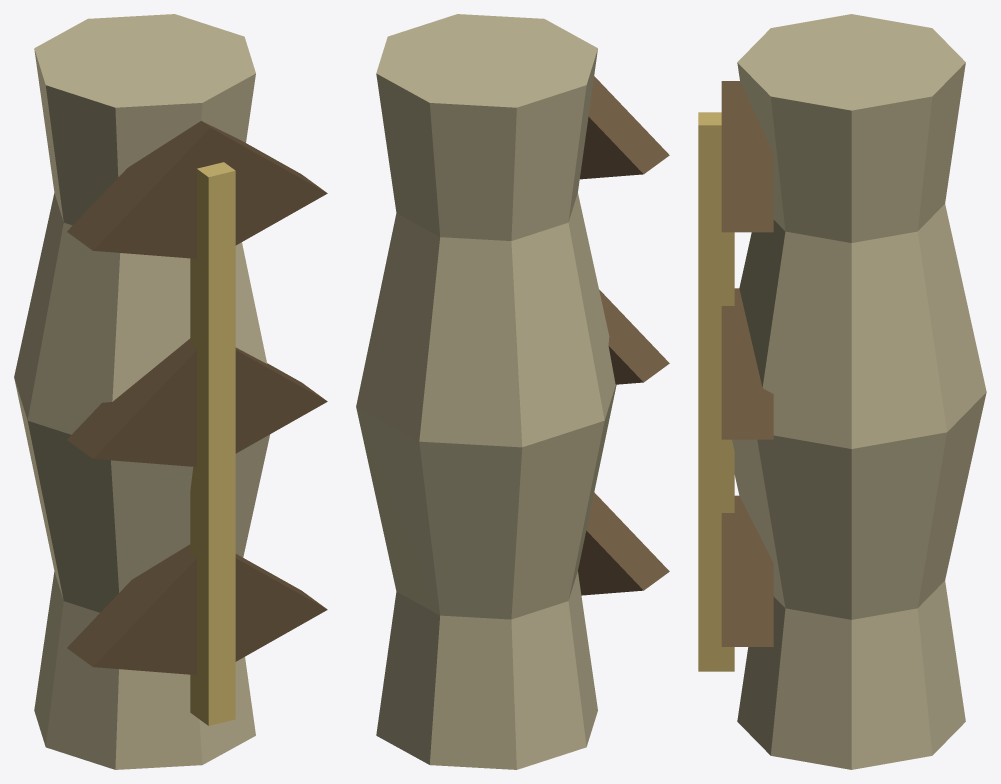
Rendered from bone_ridges.obj.
3 views of the same model, side by side, from view 1: azimuth 30°, elevation 25°; view 2: azimuth 150°, elevation 25°; view 3: azimuth 270°, elevation 25° (orthographic).
Visible parts, largest first — view 1: bone_handle, bone_edge, bone_ridge_-0.08, bone_ridge_-0.3, bone_ridge_-0.52, bone_edge_edge, bone_ridge_-0.08_edge, bone_ridge_-0.52_edge, bone_ridge_-0.3_edge; view 2: bone_handle, bone_ridge_-0.52_edge, bone_ridge_-0.08_edge, bone_ridge_-0.3_edge, bone_ridge_-0.52, bone_ridge_-0.08, bone_ridge_-0.3; view 3: bone_handle, bone_edge_edge, bone_ridge_-0.08_edge, bone_ridge_-0.52_edge, bone_ridge_-0.3_edge.
Part boxes in pixels (<box>): bone_handle: <box>14,14,269,769</box>; bone_edge: <box>208,170,235,725</box>; bone_ridge_-0.08: <box>93,127,327,258</box>; bone_ridge_-0.3: <box>93,350,327,466</box>; bone_ridge_-0.52: <box>93,558,327,675</box>; bone_edge_edge: <box>190,162,234,725</box>; bone_ridge_-0.08_edge: <box>67,121,326,250</box>; bone_ridge_-0.52_edge: <box>67,544,326,666</box>; bone_ridge_-0.3_edge: <box>67,338,326,458</box>; bone_handle: <box>356,14,616,769</box>; bone_ridge_-0.52_edge: <box>586,492,669,590</box>; bone_ridge_-0.08_edge: <box>588,76,669,173</box>; bone_ridge_-0.3_edge: <box>599,289,669,382</box>; bone_ridge_-0.52: <box>578,531,643,595</box>; bone_ridge_-0.08: <box>580,116,643,179</box>; bone_ridge_-0.3: <box>608,346,643,384</box>; bone_handle: <box>732,14,986,769</box>; bone_edge_edge: <box>698,112,734,671</box>; bone_ridge_-0.08_edge: <box>721,81,773,232</box>; bone_ridge_-0.52_edge: <box>721,495,773,646</box>; bone_ridge_-0.3_edge: <box>721,288,773,439</box>.
Size of the model in its own units: 0.26 by 0.7 by 0.2775.
